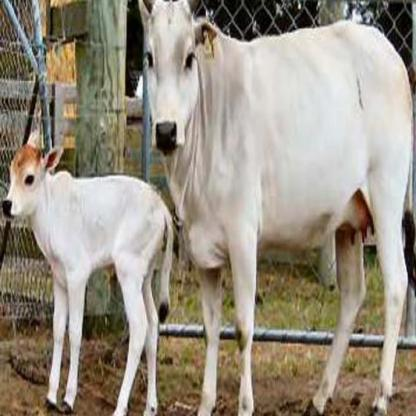cow: (142, 2, 416, 416), (1, 148, 166, 416)
